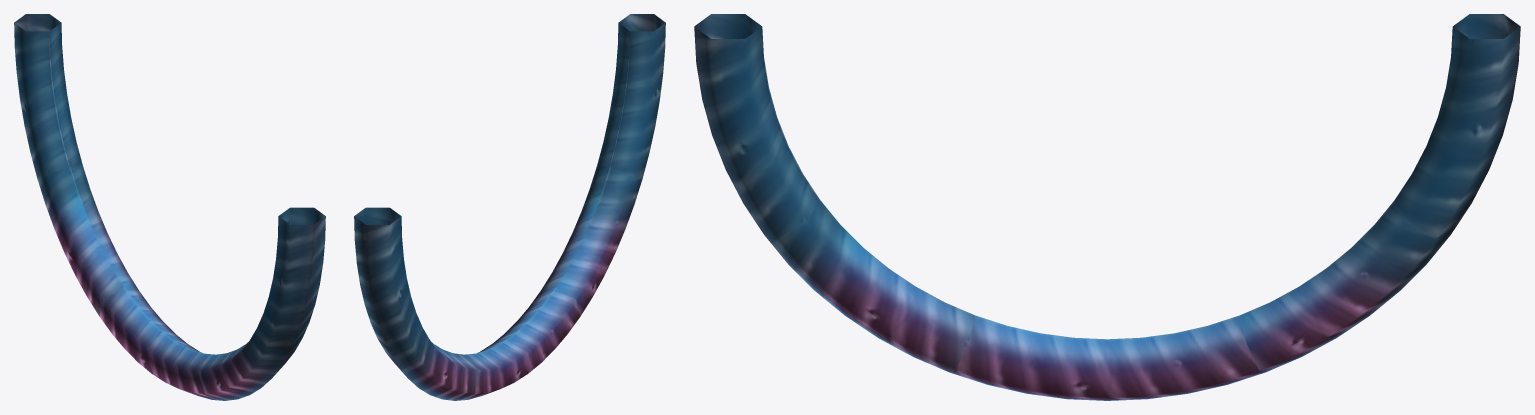
Rendered from scenes_level_bata03.FBX.
3 renders of one model, left to right at view 1: azimuth 30°, elevation 25°; view 2: azimuth 150°, elevation 25°; view 3: azimuth 270°, elevation 25°, orthographic. The views are drawn at different scales.
Parts seen in each view (by area): view 1: scenes_level_bata03; view 2: scenes_level_bata03; view 3: scenes_level_bata03.
Part boxes in pixels (x1,y1,x2,y2): scenes_level_bata03: (14,14,325,400); scenes_level_bata03: (354,14,665,400); scenes_level_bata03: (694,14,1520,400).
Size of the model in its own units: 62.96 by 441 by 882.
